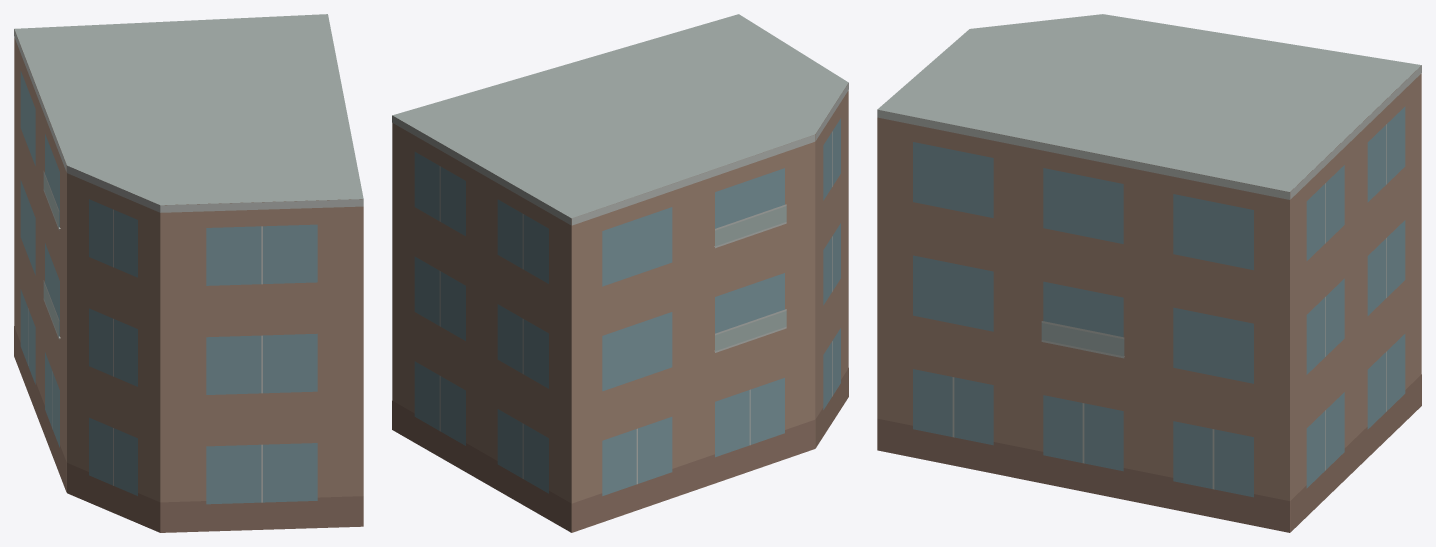
File: survey-upis-32633027.glb
3 views of the same model, side by side, from view 1: azimuth 30°, elevation 25°; view 2: azimuth 150°, elevation 25°; view 3: azimuth 270°, elevation 25° (orthographic). The views are drawn at different scales.
Parts seen in each view (by area): view 1: survey-upis-32633027.tmp; view 2: survey-upis-32633027.tmp; view 3: survey-upis-32633027.tmp.
Boxes of the visible parts, x1,y1,x2,y2 form: survey-upis-32633027.tmp: [14, 14, 363, 532]; survey-upis-32633027.tmp: [392, 14, 848, 532]; survey-upis-32633027.tmp: [877, 14, 1421, 532].
Size of the model in its own units: 11.84 by 10.55 by 15.29.
